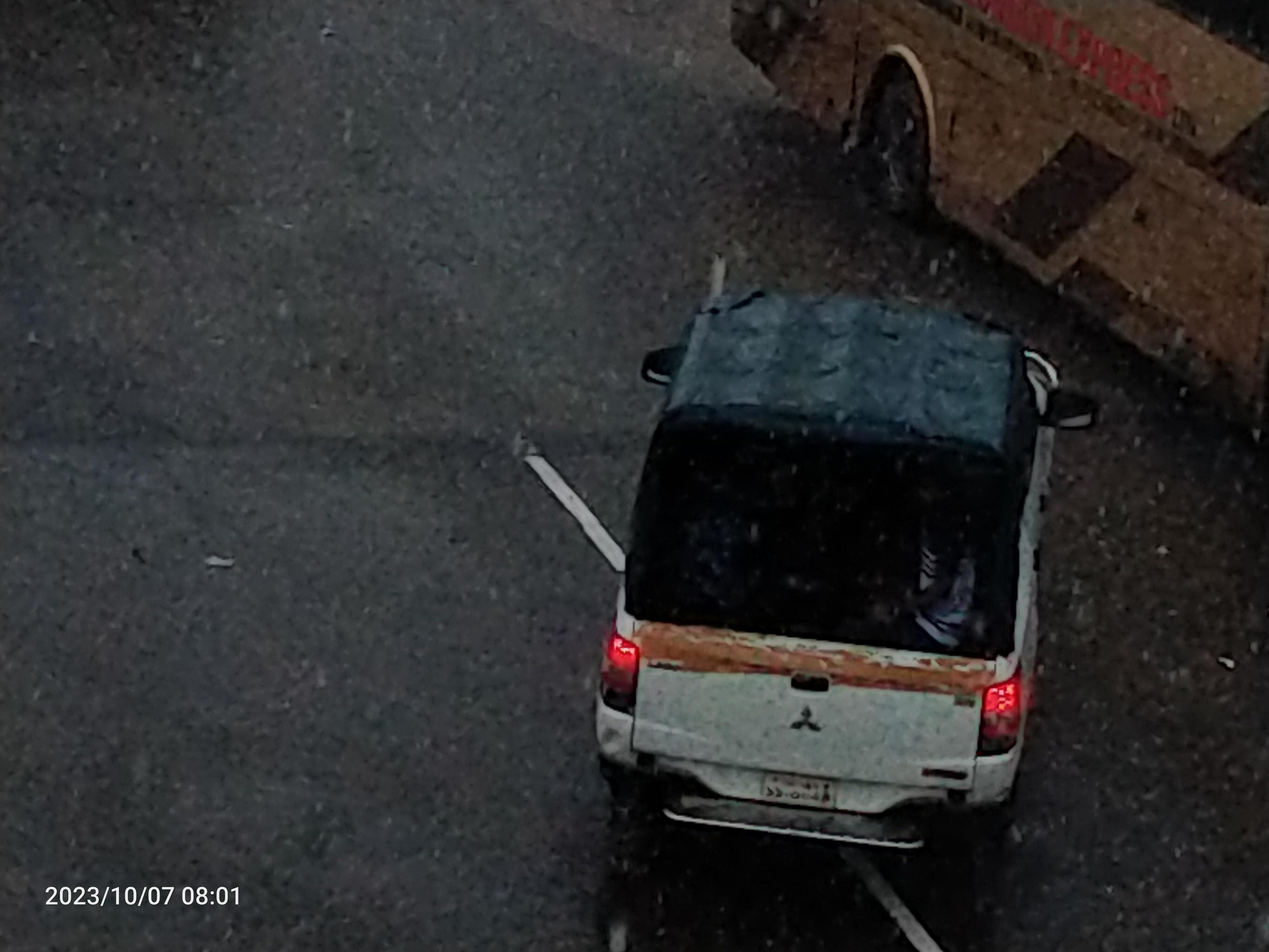Bus: (698, 0, 1266, 467)
Truck: (573, 226, 1104, 885)
